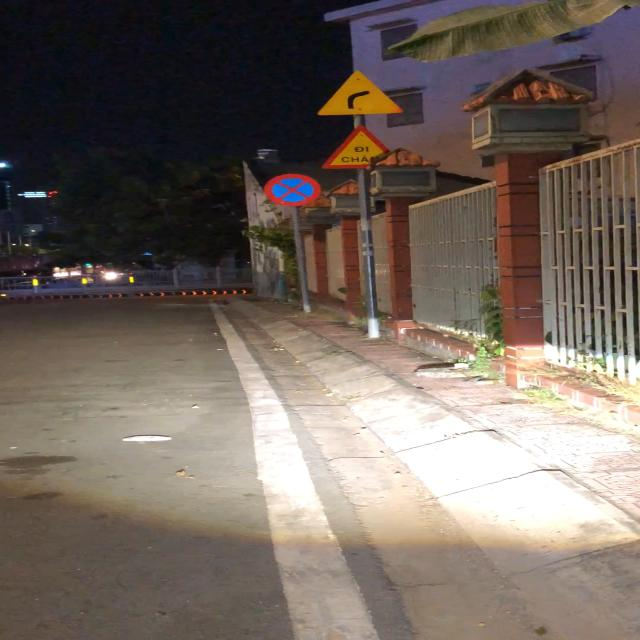Bien bao cam dung xe va do xe: (263, 173, 324, 207)
Bien bao cho ngoat nguy hiem: (311, 68, 408, 118)
Bien bao di cham: (314, 124, 398, 169)
